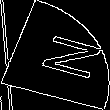N_W: (17, 27, 93, 83)
